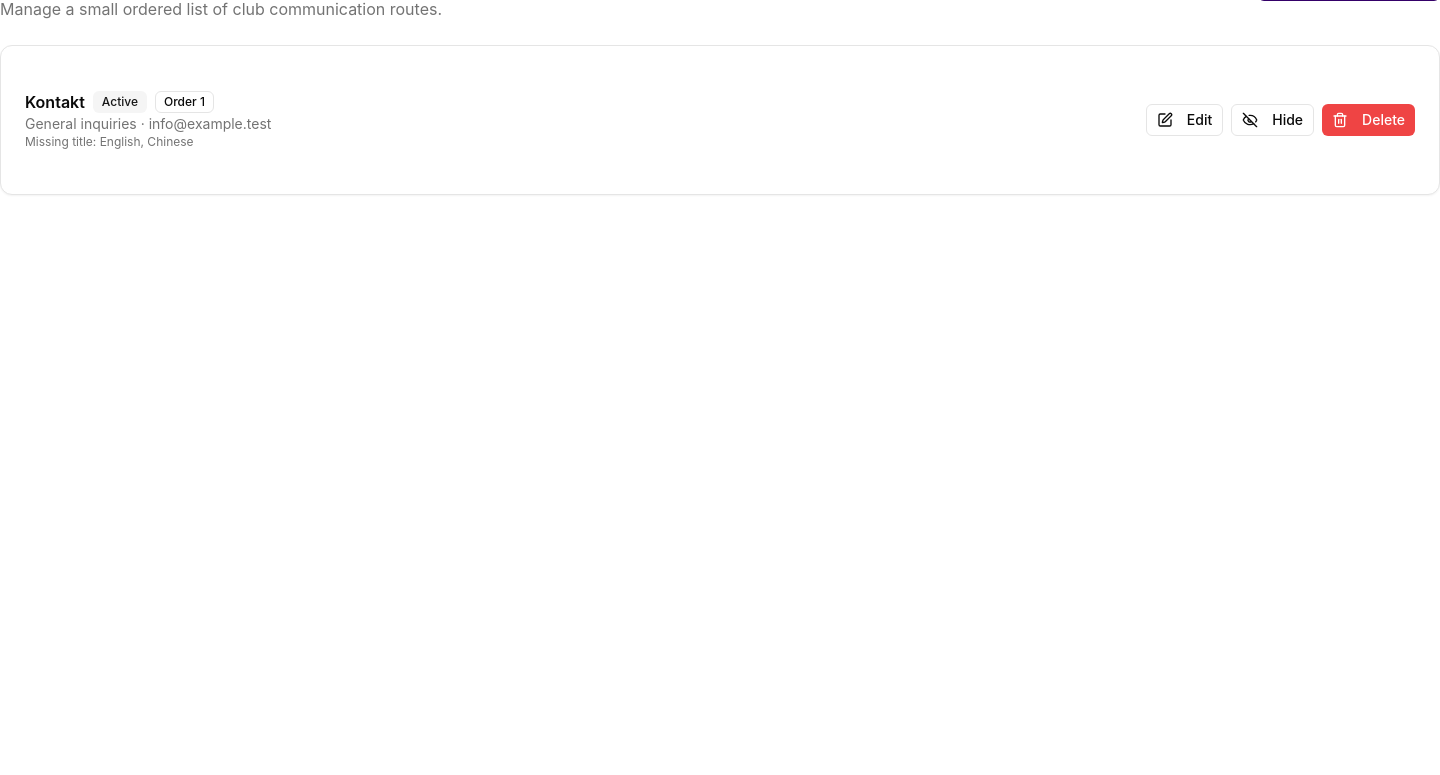
Scenario: ContactEntryManager › shows a truthful fallback for a legacy retained QR without filename metadata
Click the button with aria-label "Edit Contact entry Kontakt": (1184,120) [1146,104,1223,136]
(page scrolled)
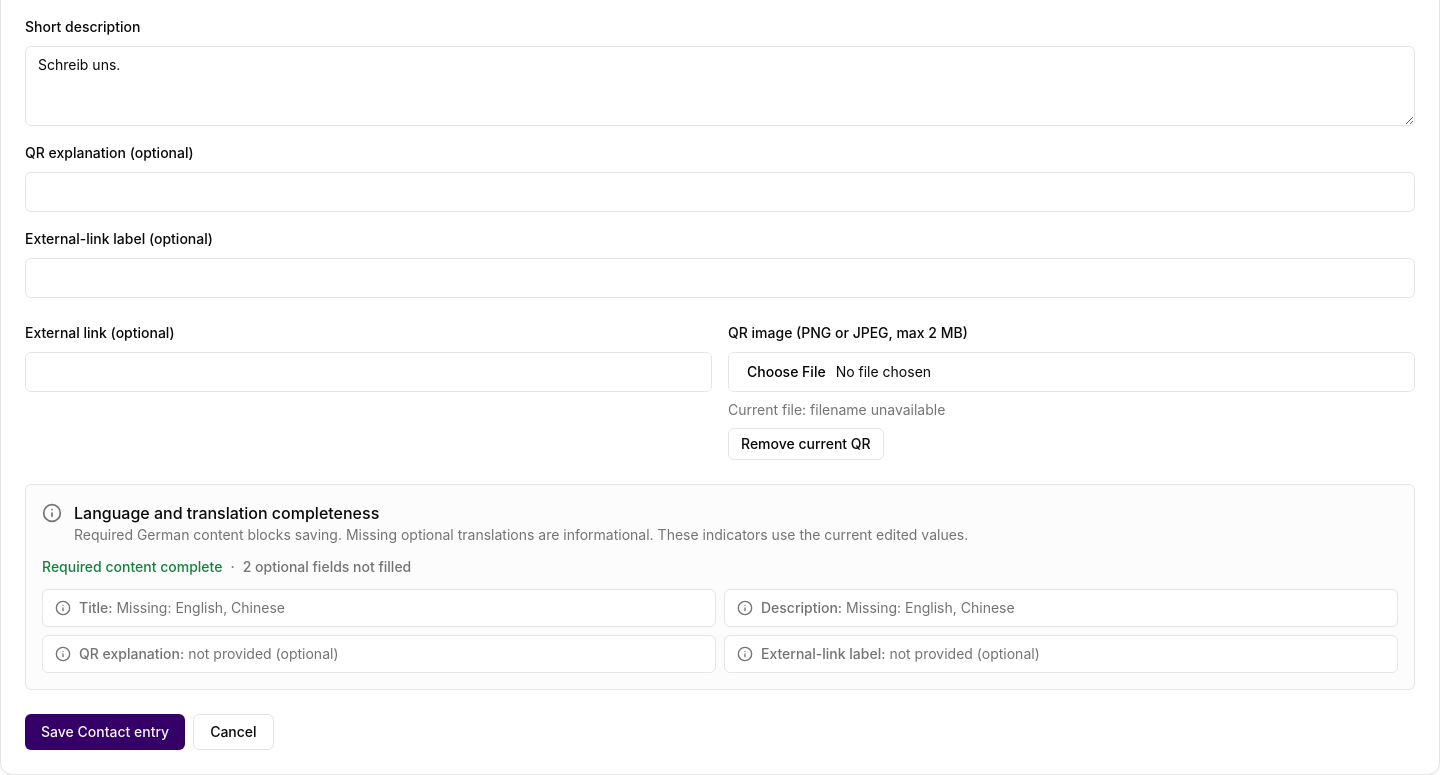
Now the text "Current file: filename unavailable" is shown, box [728,401,945,418]
